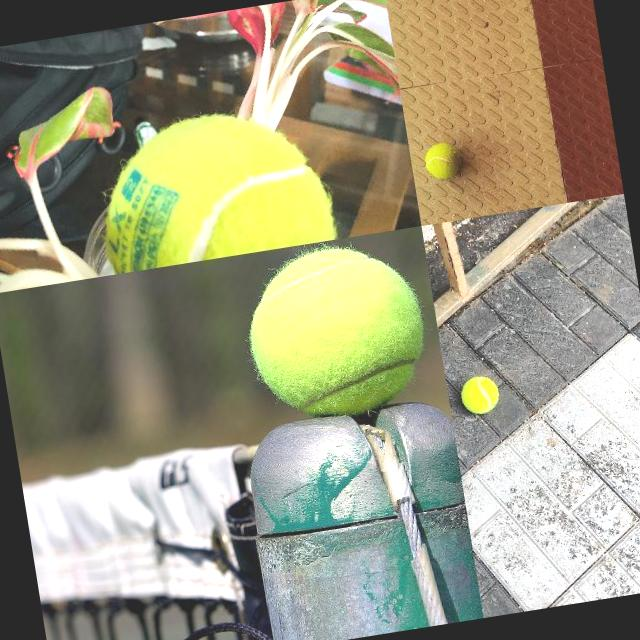tennis-ball: (89, 98, 335, 274), (237, 235, 436, 426), (458, 374, 501, 416), (423, 140, 463, 180)
